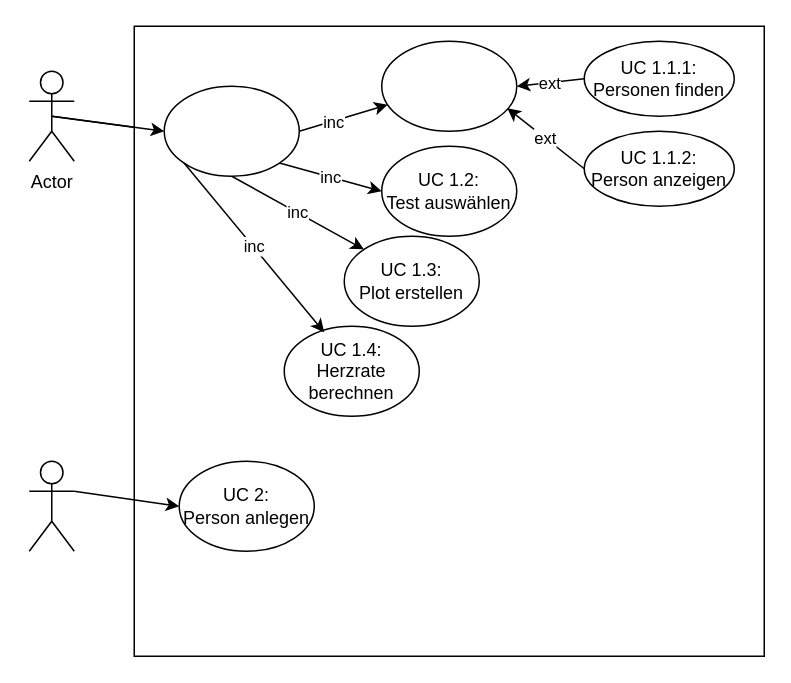
This 791x683 diagram has some shape labels left out. The shapes that lost their labels are listed below. From the top down, each one's box as (x1, y1, x2, y2) in pixels, then its label:
(380, 40, 517, 131): UC 1.1: Person auswählen
(163, 85, 299, 176): UC 1: EKG Analyse
(28, 460, 74, 551): Admin
